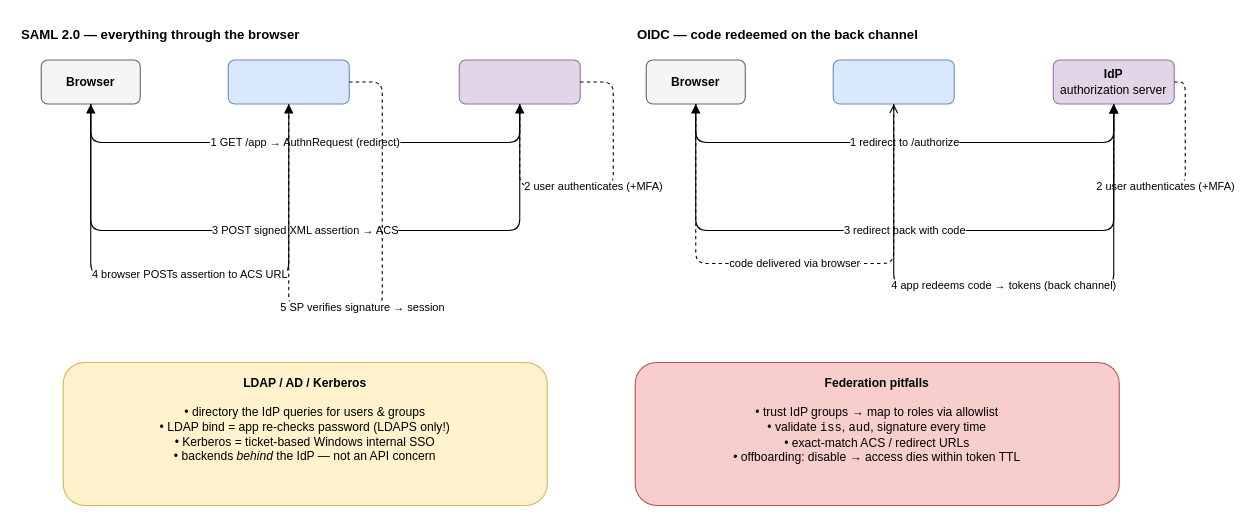
Image size: 1253x525. Some labels were removed from this diagram. Each missing label, with the box of its shape:
Client app: (832, 59, 954, 104)
IdP Entra / Okta: (458, 59, 580, 104)
SP your app: (227, 59, 349, 104)
